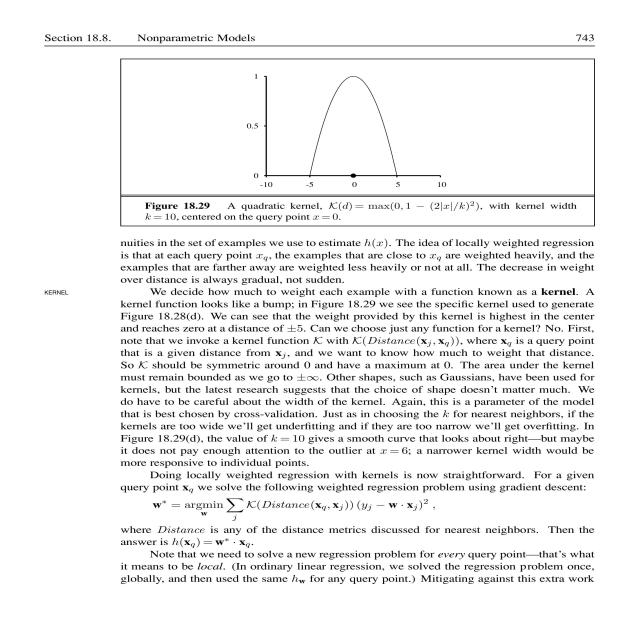diagram: (92, 56, 618, 234)
